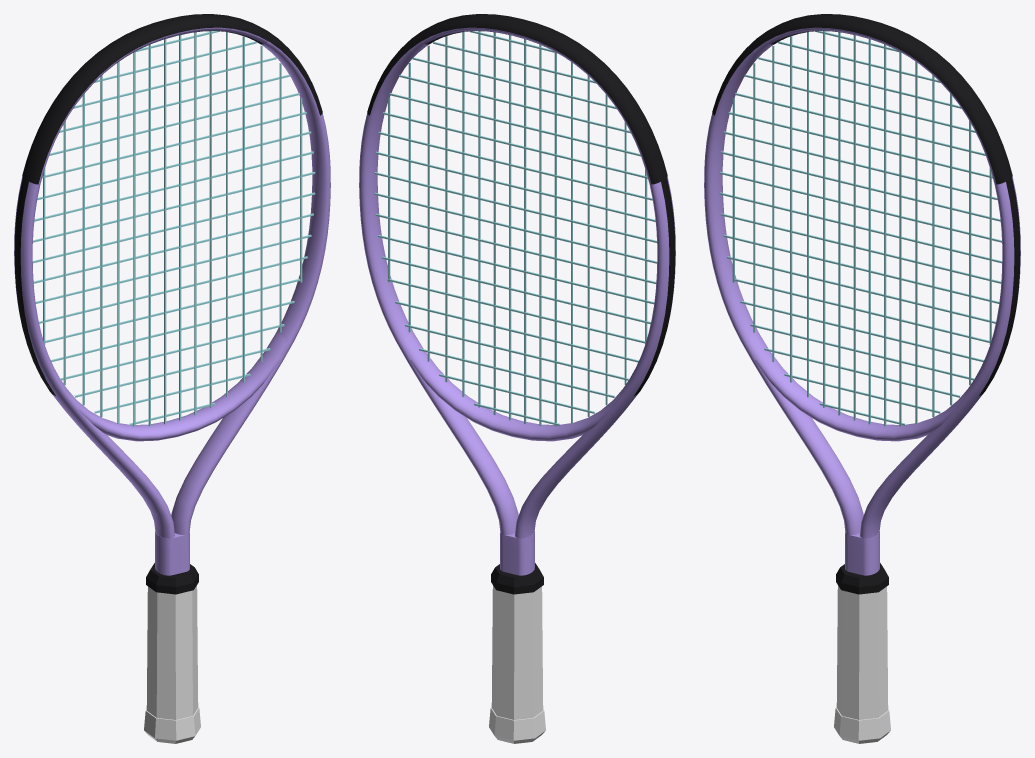
The model's file is head-instinct-junior-23.glb.
The picture shows the model from 3 angles, left to right: view 1: azimuth 30°, elevation 25°; view 2: azimuth 150°, elevation 25°; view 3: azimuth 330°, elevation 25°; orthographic projection.
Parts seen in each view (by area): view 1: frame, strings_mains, strings_crosses, grip, bumper, butt_cap, grommets, collar; view 2: frame, strings_mains, strings_crosses, grip, bumper, butt_cap, grommets, collar; view 3: frame, strings_mains, strings_crosses, grip, bumper, butt_cap, grommets, collar.
Part boxes in pixels (x1,y1,x2,y2): frame: (14,27,330,575); strings_mains: (43,31,302,426); strings_crosses: (32,31,315,425); grip: (146,585,198,719); bumper: (22,14,322,184); butt_cap: (144,707,200,743); grommets: (14,178,55,395); collar: (146,563,198,594); frame: (359,27,675,575); strings_mains: (388,31,647,426); strings_crosses: (374,31,657,425); grip: (491,585,543,719); bumper: (367,14,667,184); butt_cap: (489,707,545,743); grommets: (634,178,675,395); collar: (491,563,543,594); frame: (704,27,1020,575); strings_mains: (732,31,991,426); strings_crosses: (719,31,1002,425); grip: (836,585,888,719); bumper: (712,14,1012,184); butt_cap: (834,707,890,743); grommets: (979,178,1020,395); collar: (836,563,888,594).
Bounding box in the file's own units: 0.2671 × 0.5845 × 0.0396.
